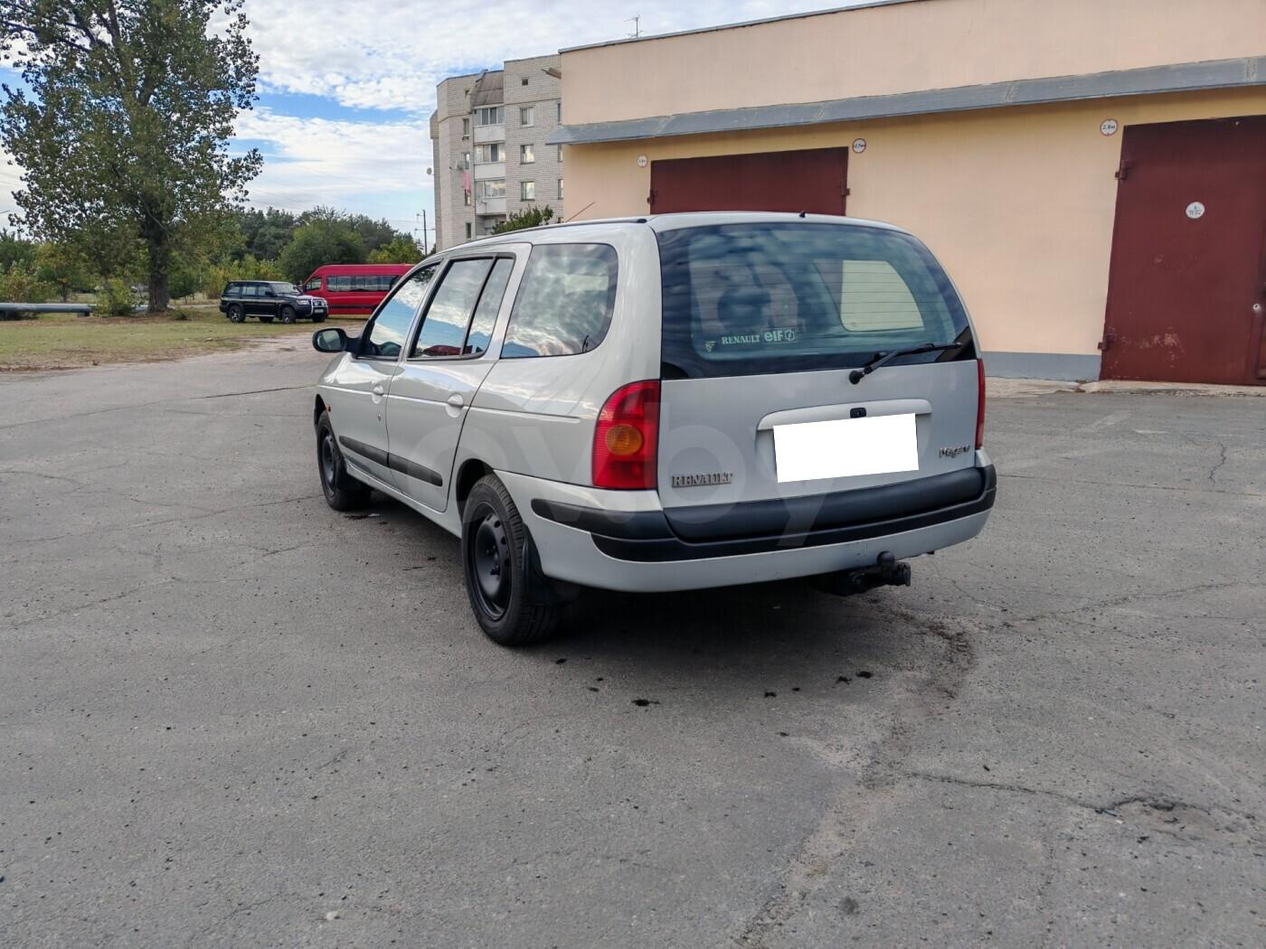Megane_1999-2003: (307, 210, 1004, 647)
